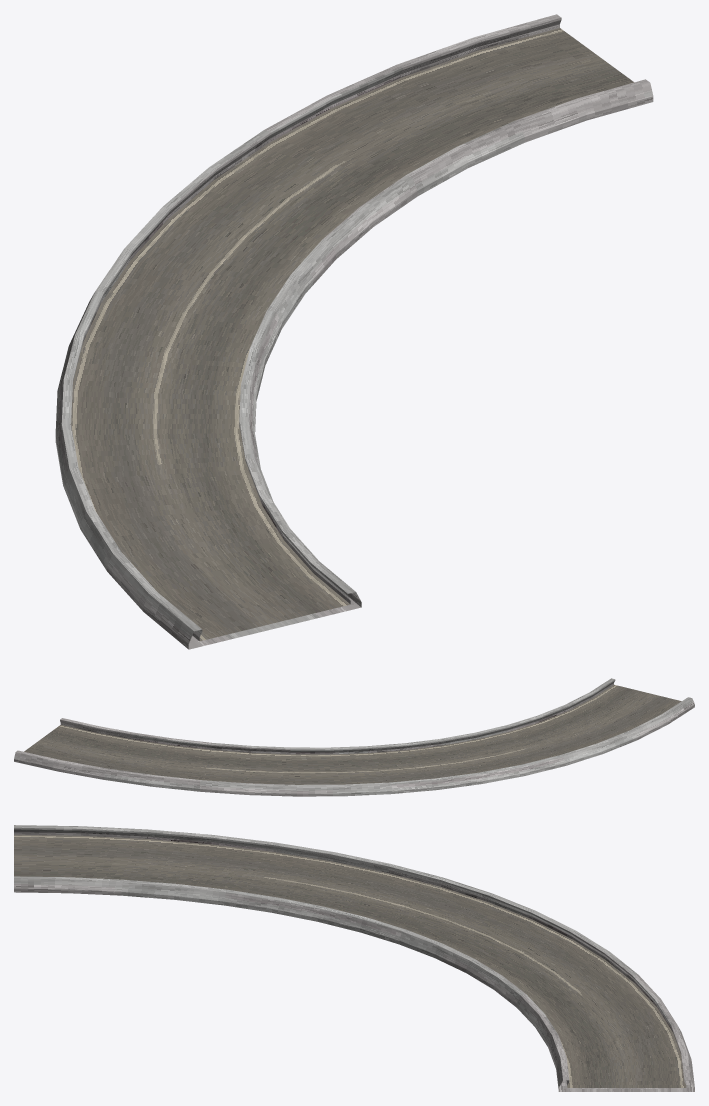
The model's file is road-Turn-Flat-Flat-Up1-Right-Size5.glb.
3 views of the same model, one above another, from view 1: azimuth 30°, elevation 25°; view 2: azimuth 150°, elevation 25°; view 3: azimuth 270°, elevation 25° (orthographic). The views are drawn at different scales.
Parts seen in each view (by area): view 1: road-Turn-Flat-Flat-Up1-Right-Size5; view 2: road-Turn-Flat-Flat-Up1-Right-Size5; view 3: road-Turn-Flat-Flat-Up1-Right-Size5.
Boxes of the visible parts, left/top/right/bottom form: road-Turn-Flat-Flat-Up1-Right-Size5: left=55, top=14, right=653, bottom=649; road-Turn-Flat-Flat-Up1-Right-Size5: left=14, top=678, right=694, bottom=796; road-Turn-Flat-Flat-Up1-Right-Size5: left=14, top=825, right=694, bottom=1091.
Bounding box in the file's own units: 5 × 0.3438 × 5.
Materials: 2 (2 with a texture image).
